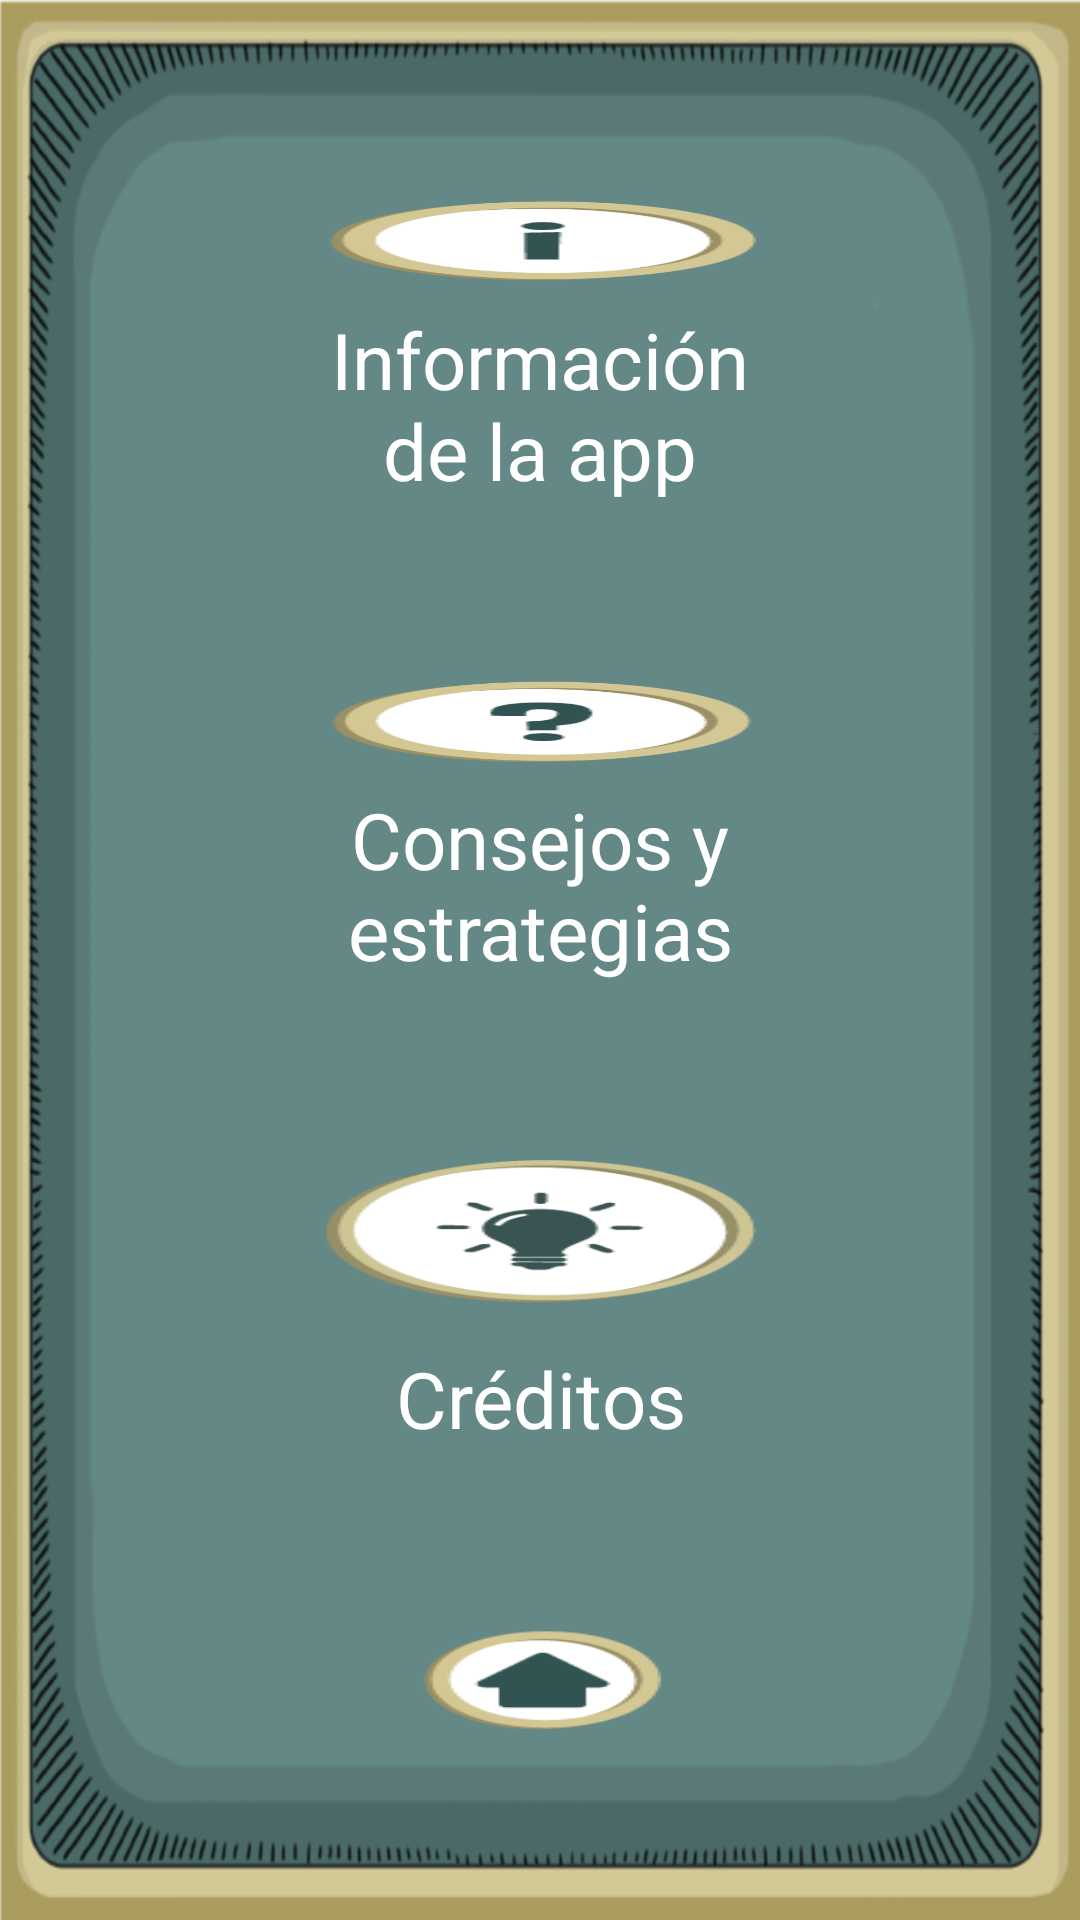

Where to tap for icons on this 1080x1920 app screen, as point (x, y):
botonhome: point (543, 1680)
